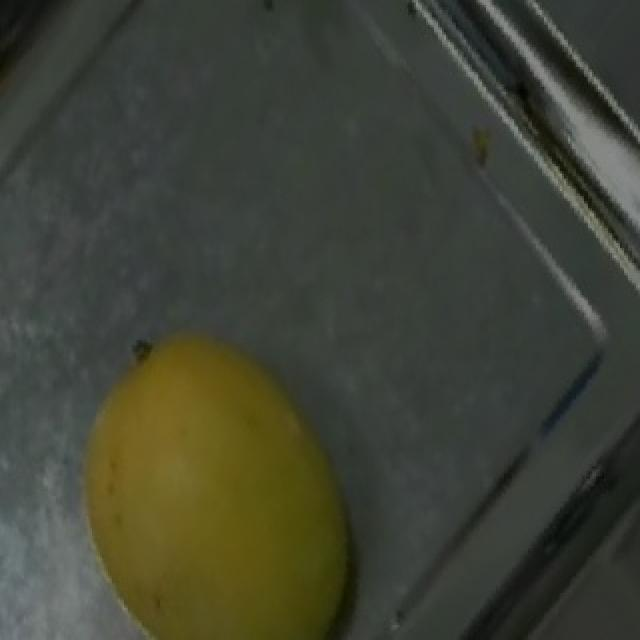fruit: (64, 290, 434, 640)
